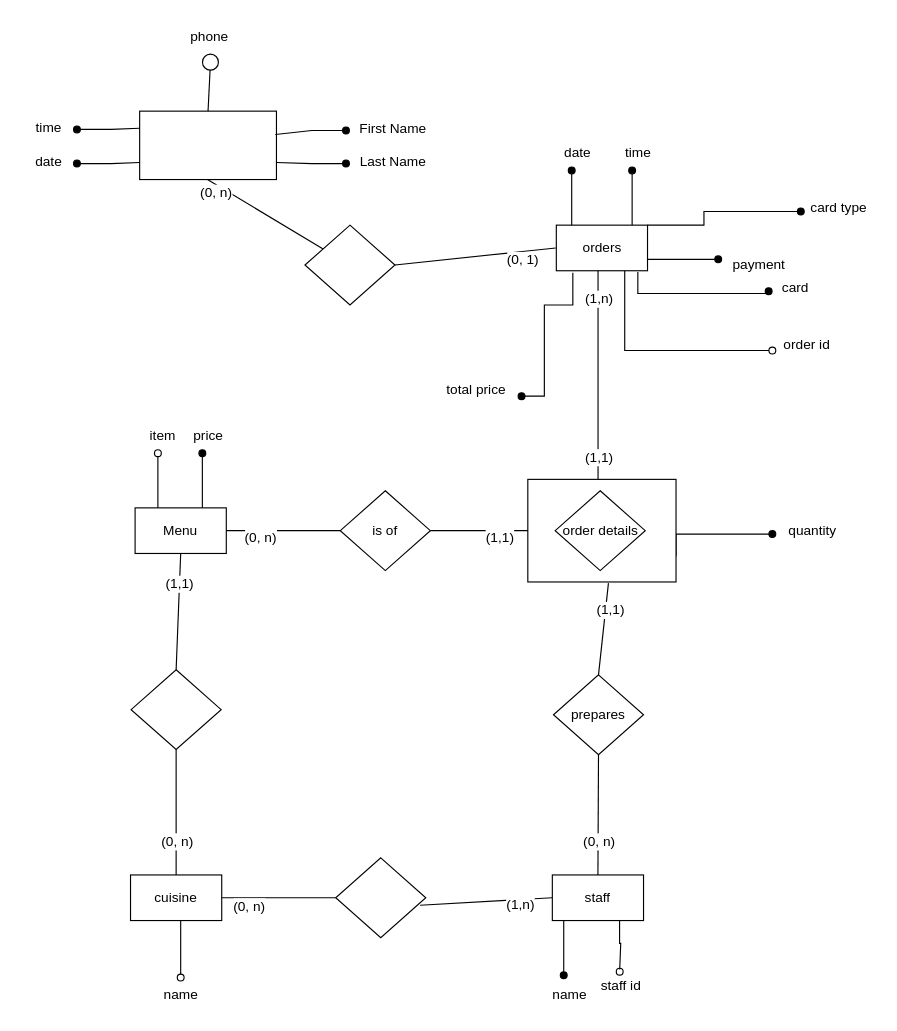
Image size: 897x1031. Some labels were removed from this diagram. Each missing label, with the box of its shape:
Assign to: (335, 857, 426, 938)
Has: (130, 669, 221, 750)
placed by: (304, 224, 395, 305)
Reg: (139, 110, 276, 180)
